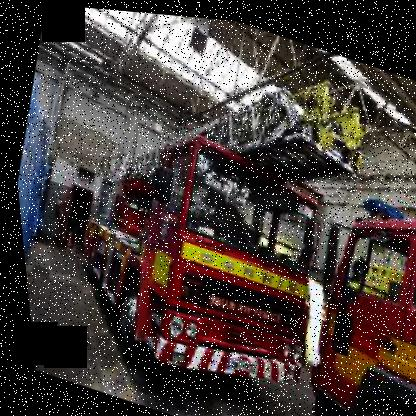emergency: (23, 111, 380, 415)
